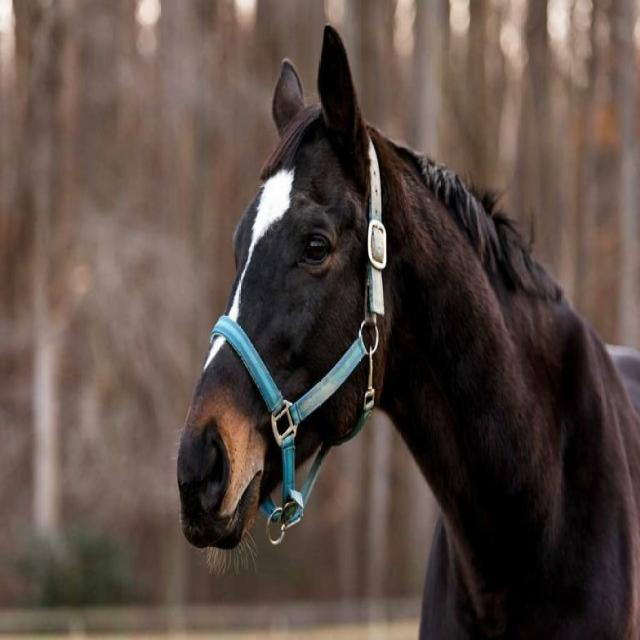horse: (177, 24, 639, 639)
